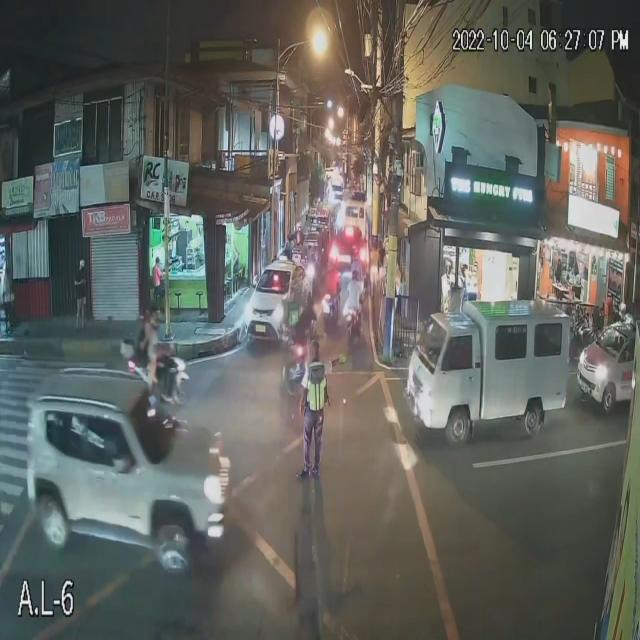Full-Faced: (146, 307, 164, 333), (348, 264, 362, 283)
